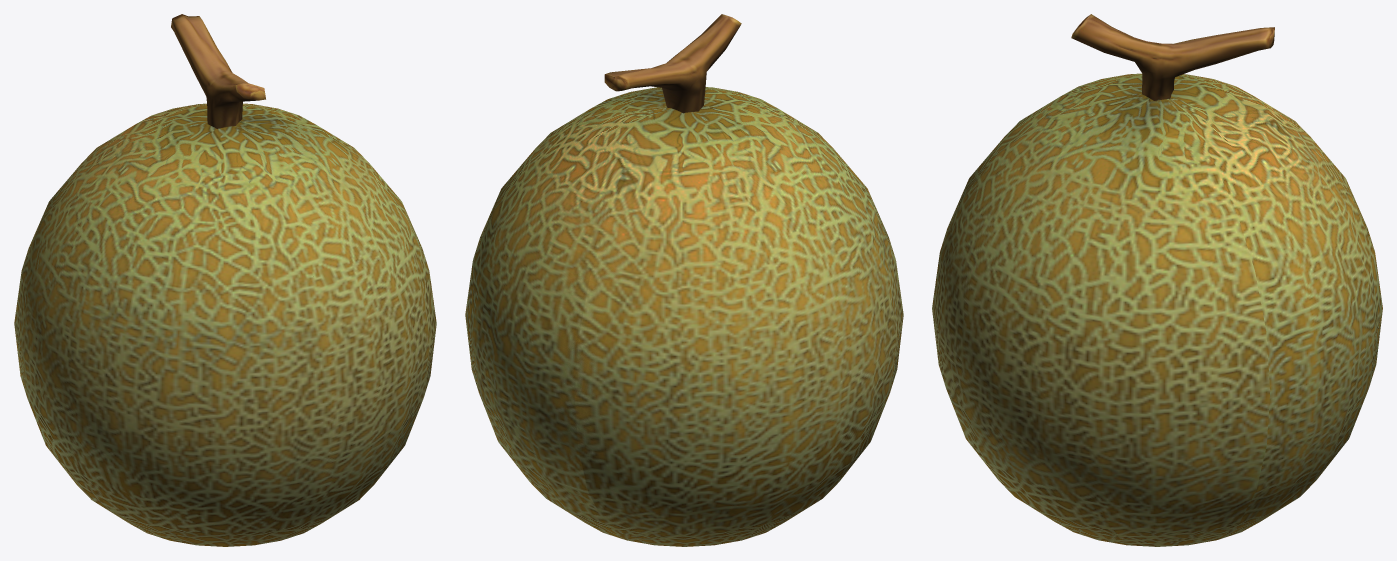
File: hamimelon.FBX
3 renders of one model, left to right at view 1: azimuth 30°, elevation 25°; view 2: azimuth 150°, elevation 25°; view 3: azimuth 270°, elevation 25°, orthographic. The views are drawn at different scales.
Parts seen in each view (by area): view 1: hamimelon, hamimelon01, hamimelon02; view 2: hamimelon, hamimelon01, hamimelon02; view 3: hamimelon, hamimelon01, hamimelon02.
Boxes of the visible parts, bbox=[...] form: hamimelon: bbox=[14, 14, 436, 546]; hamimelon01: bbox=[154, 107, 330, 529]; hamimelon02: bbox=[248, 106, 374, 540]; hamimelon: bbox=[465, 14, 903, 546]; hamimelon01: bbox=[575, 90, 759, 544]; hamimelon02: bbox=[530, 89, 710, 511]; hamimelon: bbox=[939, 14, 1379, 546]; hamimelon01: bbox=[940, 91, 1374, 250]; hamimelon02: bbox=[932, 102, 1382, 387].
Size of the model in its own units: 1.68 by 2.06 by 1.68.
